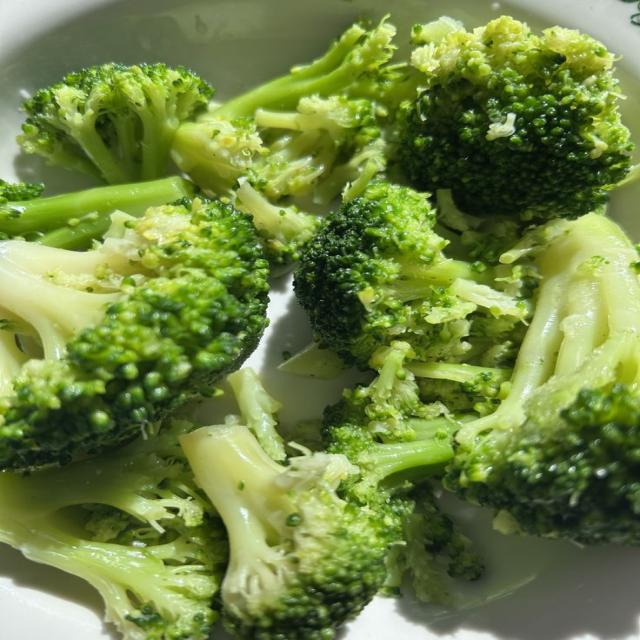broccoli: (0, 199, 268, 467), (445, 214, 639, 544), (172, 21, 394, 264), (0, 420, 226, 639), (396, 16, 632, 221), (181, 425, 398, 639), (294, 183, 529, 367), (324, 343, 483, 603), (19, 63, 213, 183), (0, 177, 196, 249), (235, 181, 320, 264), (227, 367, 286, 461), (0, 180, 44, 205)
